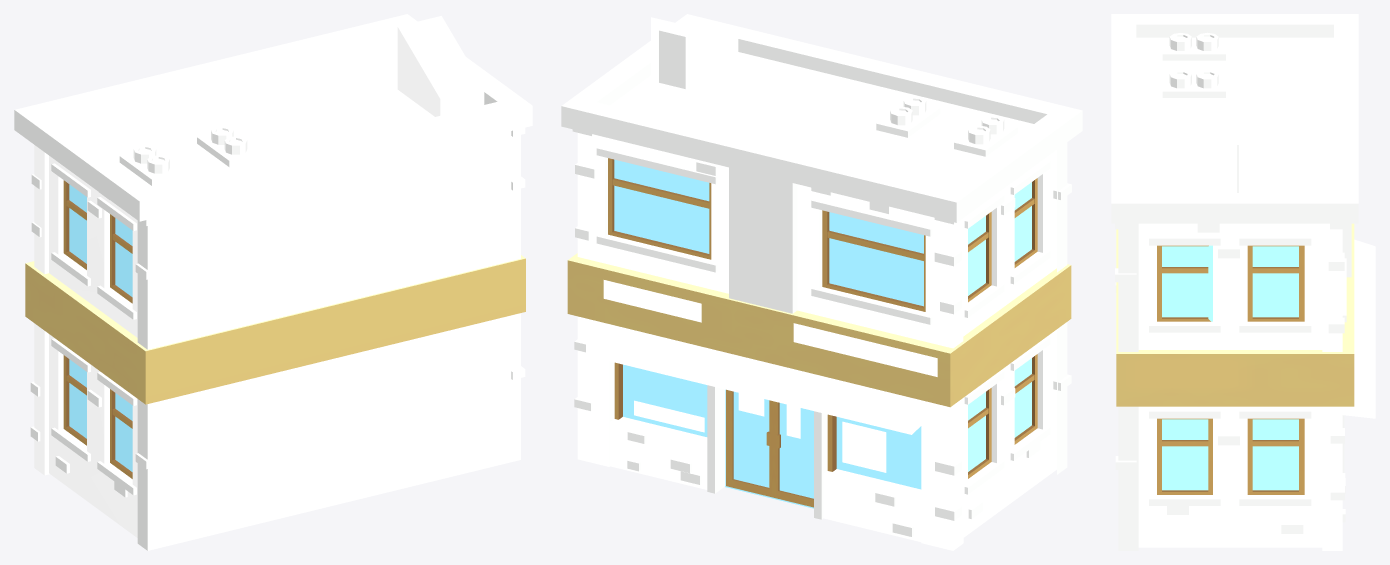
File: dwelling&store.004.glb
The picture shows the model from 3 angles, left to right: view 1: azimuth 30°, elevation 25°; view 2: azimuth 150°, elevation 25°; view 3: azimuth 270°, elevation 25°; orthographic projection.
Visible parts, largest first — view 1: dwelling&store.004(Clone); view 2: dwelling&store.004(Clone); view 3: dwelling&store.004(Clone).
Part boxes in pixels (x1=…): dwelling&store.004(Clone): x1=14, y1=14, x2=532, y2=550; dwelling&store.004(Clone): x1=561, y1=14, x2=1082, y2=550; dwelling&store.004(Clone): x1=1111, y1=14, x2=1375, y2=550.
Size of the model in its own units: 7.08 by 6.99 by 4.17.
1 material, 1 textured.
